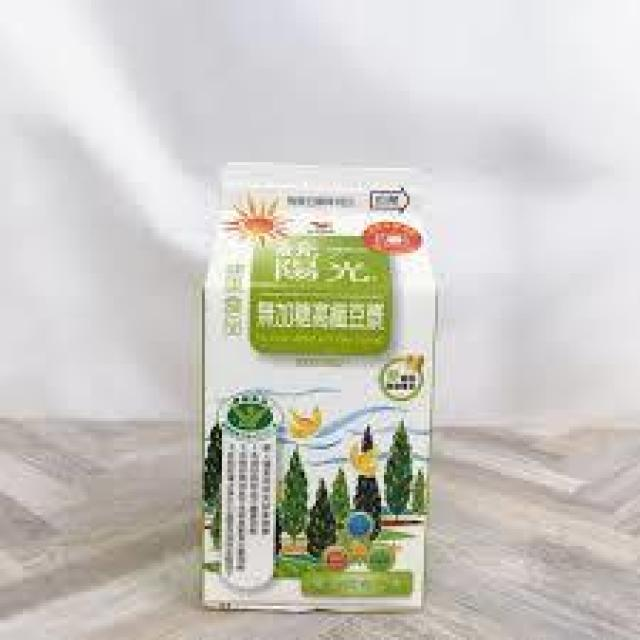TongYi_UnsweetenedHighFiberSoyMilk: (198, 159, 440, 613)
